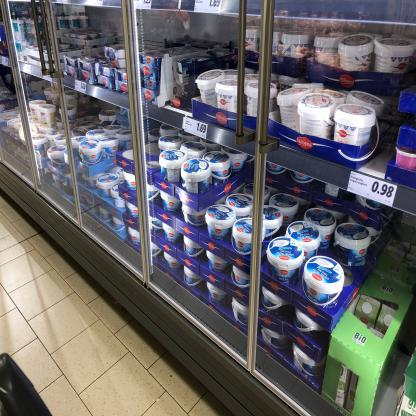prtg: (348, 172, 398, 208), (185, 118, 209, 140), (195, 1, 223, 15), (76, 80, 88, 95), (136, 1, 153, 10), (94, 1, 104, 8)
